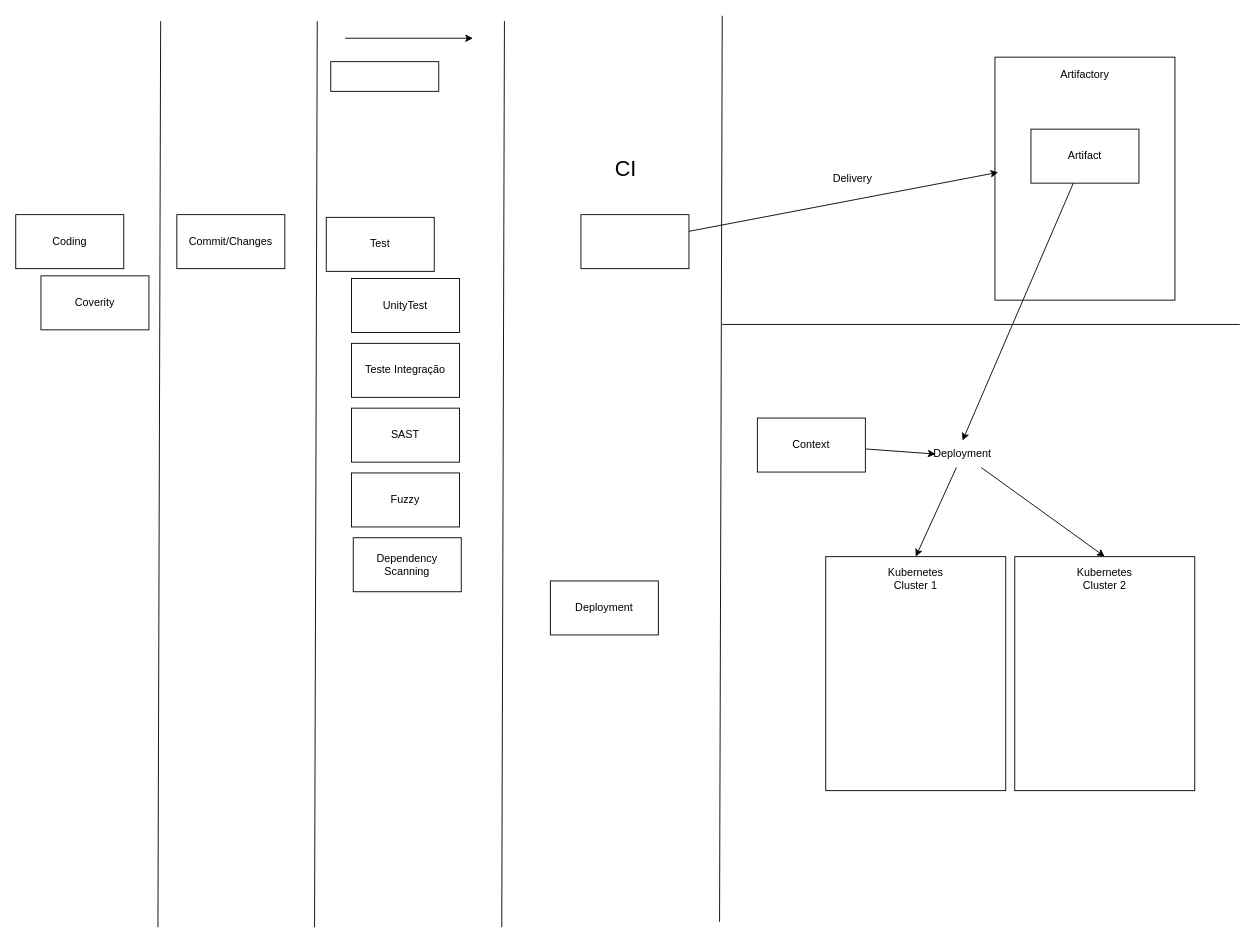
Some shapes in this 1256 by 944 pixel diagram are drawn without their labels. Here are the shapes that lost their labels. From the top down, the centre of each, then its label:
the point at 384,76: Gitops
the point at 634,241: Build
